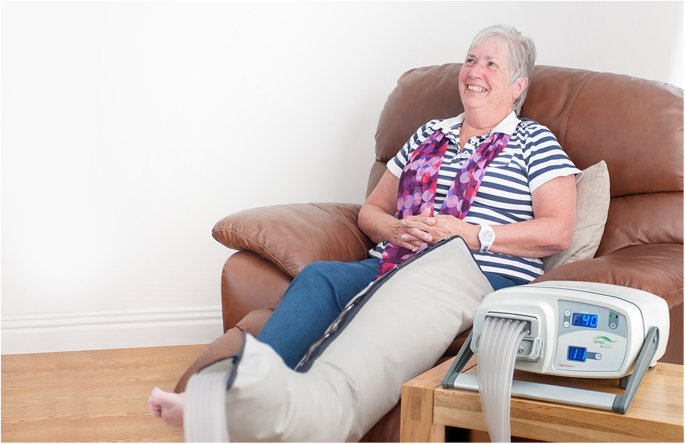patient: (148, 25, 585, 444)
sequential_compression: (180, 237, 670, 444)
sofa: (211, 63, 685, 444)
table: (401, 351, 685, 444)
